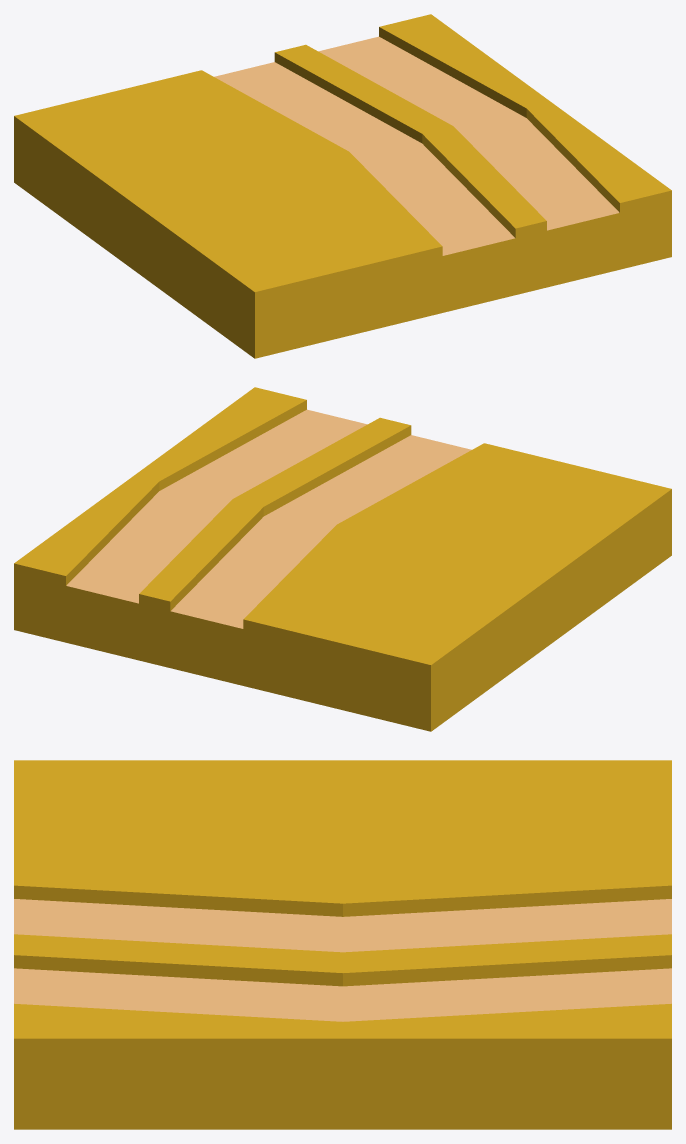
The model's file is bounce-pad-model.fbx.
3 renders of one model, top to bottom at view 1: azimuth 30°, elevation 25°; view 2: azimuth 150°, elevation 25°; view 3: azimuth 270°, elevation 25°, orthographic. The views are drawn at different scales.
Parts seen in each view (by area): view 1: Cube.002; view 2: Cube.002; view 3: Cube.002.
Boxes of the visible parts, x1,y1,x2,y2 form: Cube.002: (14,14,671,358); Cube.002: (14,387,671,731); Cube.002: (14,760,671,1129).
Bounding box in the file's own units: 200 × 30.51 × 200.
